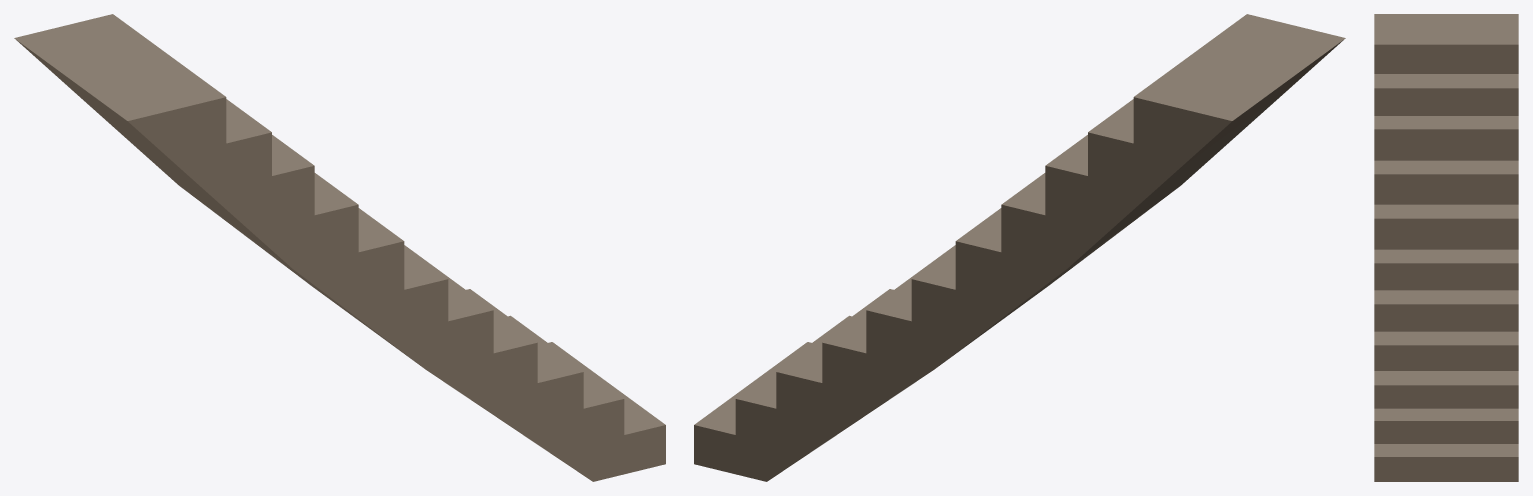
The model's file is Stairs_A1.fbx.
The picture shows the model from 3 angles, left to right: view 1: azimuth 30°, elevation 25°; view 2: azimuth 150°, elevation 25°; view 3: azimuth 270°, elevation 25°; orthographic projection. The views are drawn at different scales.
Parts seen in each view (by area): view 1: Stairs_A1; view 2: Stairs_A1; view 3: Stairs_A1.
Boxes of the visible parts, bbox=[...] form: Stairs_A1: bbox=[14, 14, 665, 481]; Stairs_A1: bbox=[694, 14, 1345, 481]; Stairs_A1: bbox=[1374, 14, 1518, 481].
Bounding box in the file's own units: 448 × 378 × 164.
1 material, 1 textured.
